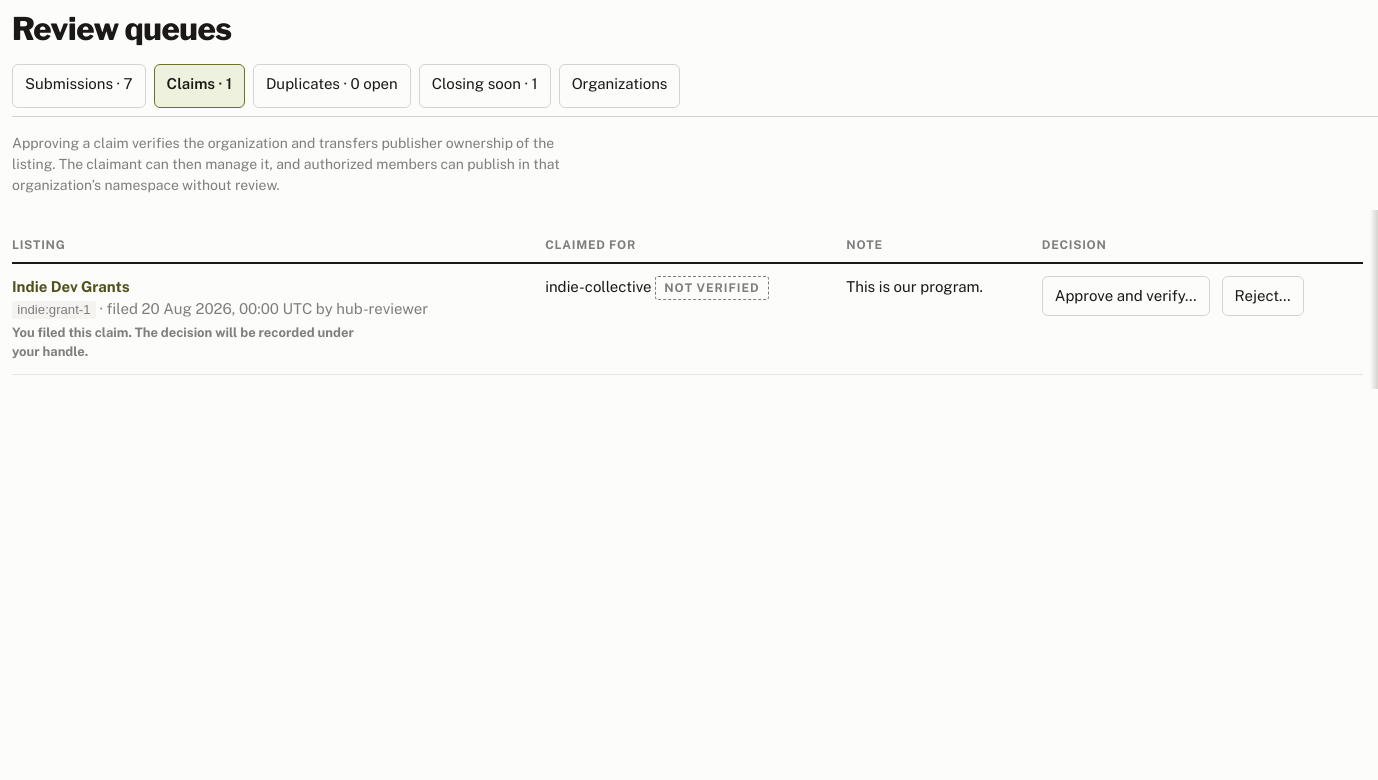
Test case: deciding a claim › offers one approval, confirms verification and sends a single decision
The image size is (1378, 780).
Step 1. Click the button "Approve and verify…" → (1126, 296), box [1042, 276, 1210, 316]
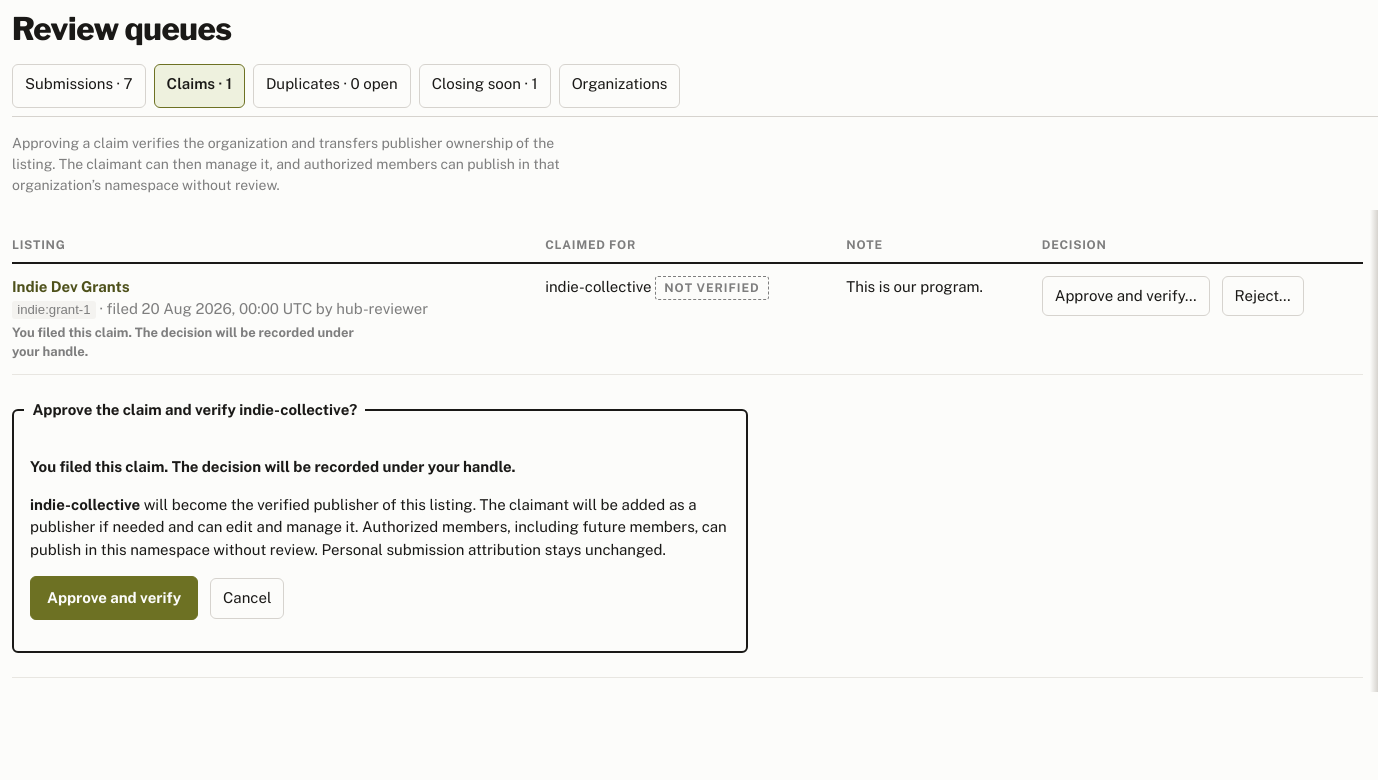
Result: the element "Approve the claim and verify indie-collective?" shows "can edit and manage it" at [30, 496, 727, 558]
Step 2. Click the button "Approve and verify" → (114, 598), box [30, 576, 198, 620]
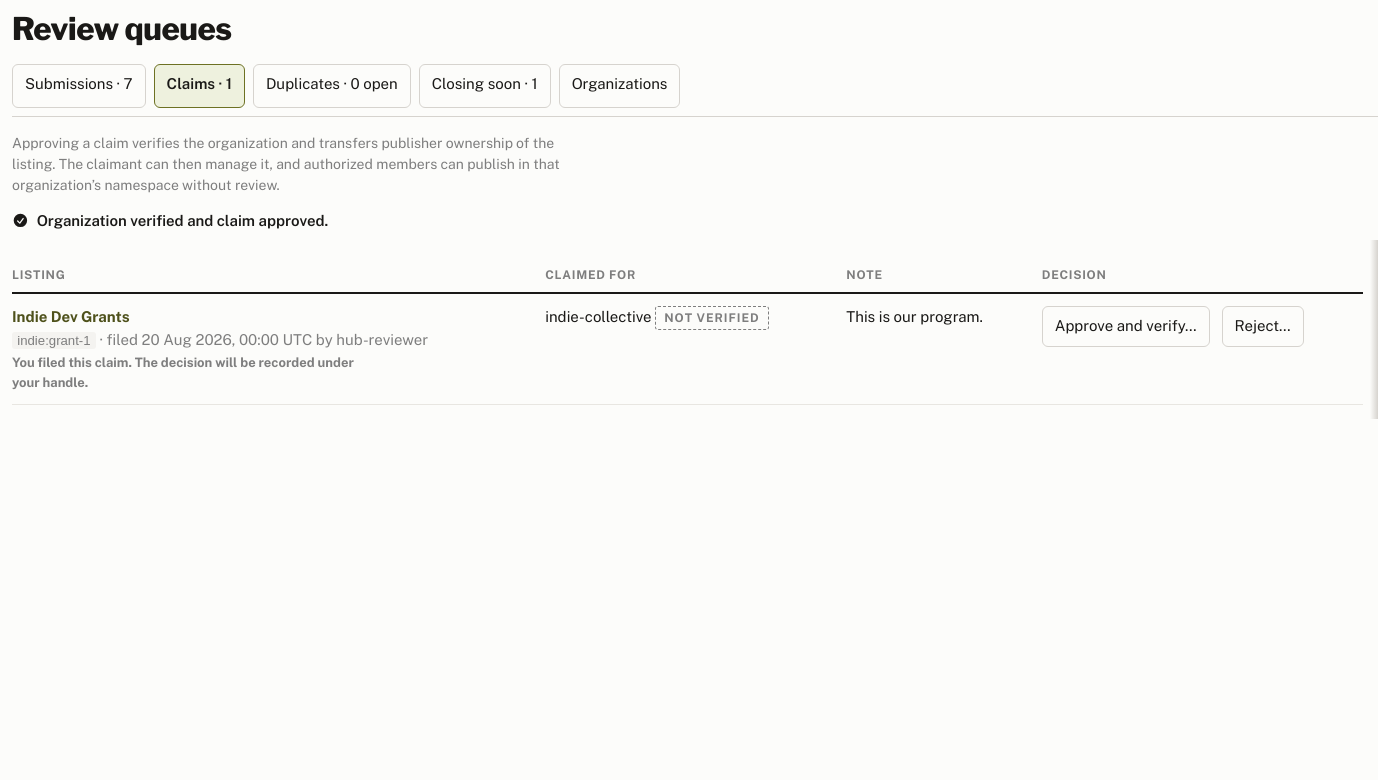
Result: the text "Organization verified and claim approved." is shown at [12, 212, 328, 229]
